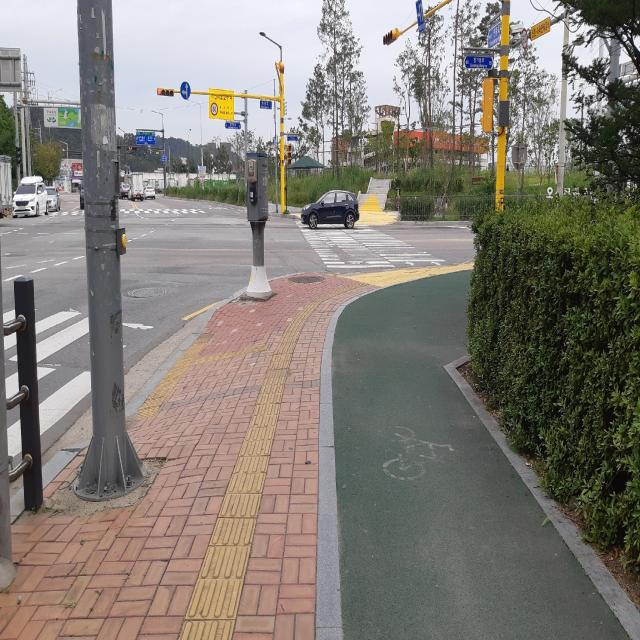횡단보도: (294, 218, 447, 269), (38, 313, 82, 412), (125, 208, 212, 214)
